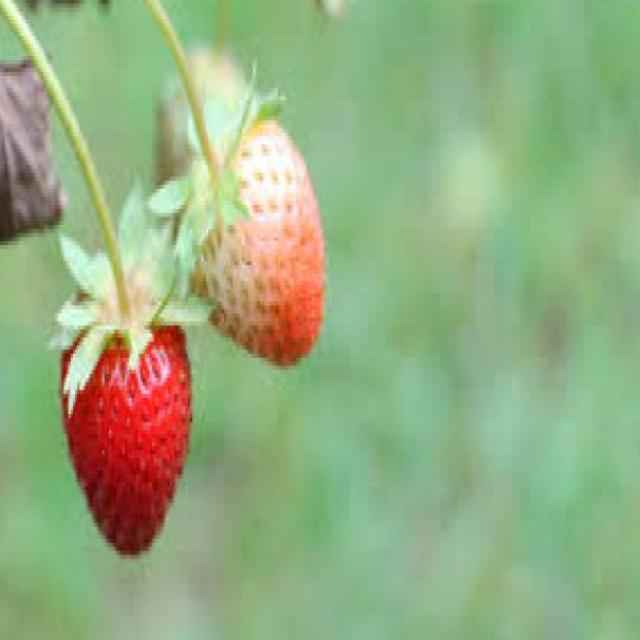Healthy Fruit: (169, 129, 322, 376), (58, 321, 193, 558)
